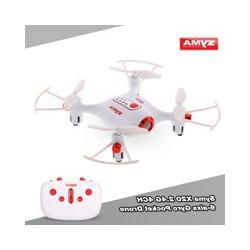drone: (32, 59, 220, 167)
